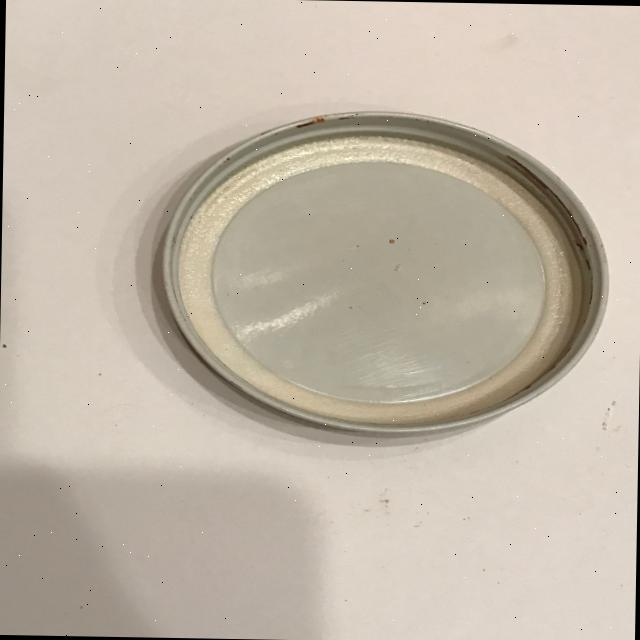metal: (156, 106, 612, 438)
